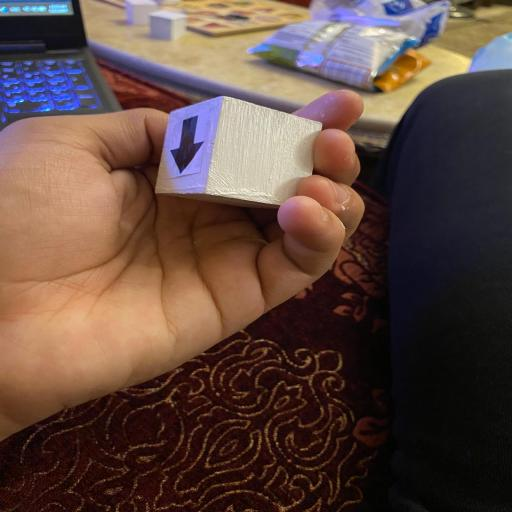Down: (154, 95, 323, 208)
